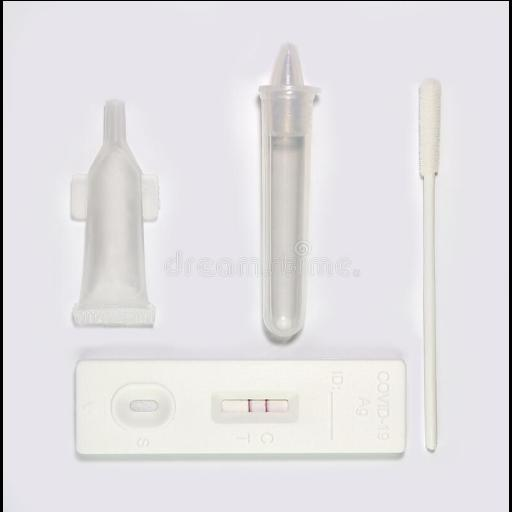Pos: (75, 360, 405, 454)
